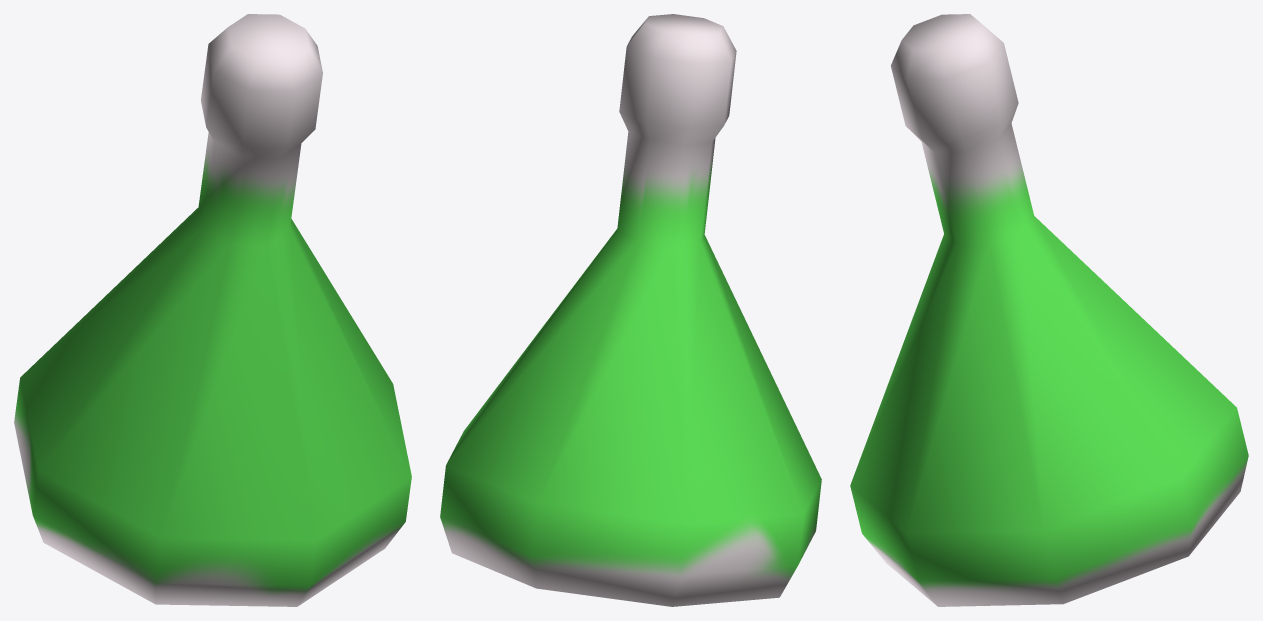
The model's file is Flask.fbx.
3 renders of one model, left to right at view 1: azimuth 30°, elevation 25°; view 2: azimuth 150°, elevation 25°; view 3: azimuth 270°, elevation 25°, orthographic. The views are drawn at different scales.
Visible parts, largest first — view 1: Flask; view 2: Flask; view 3: Flask.
Boxes of the visible parts, x1,y1,x2,y2 form: Flask: (14, 14, 411, 606); Flask: (440, 14, 821, 606); Flask: (850, 14, 1248, 606).
Size of the model in its own units: 43.18 by 64.84 by 43.44.
Materials: 1 (1 with a texture image).
